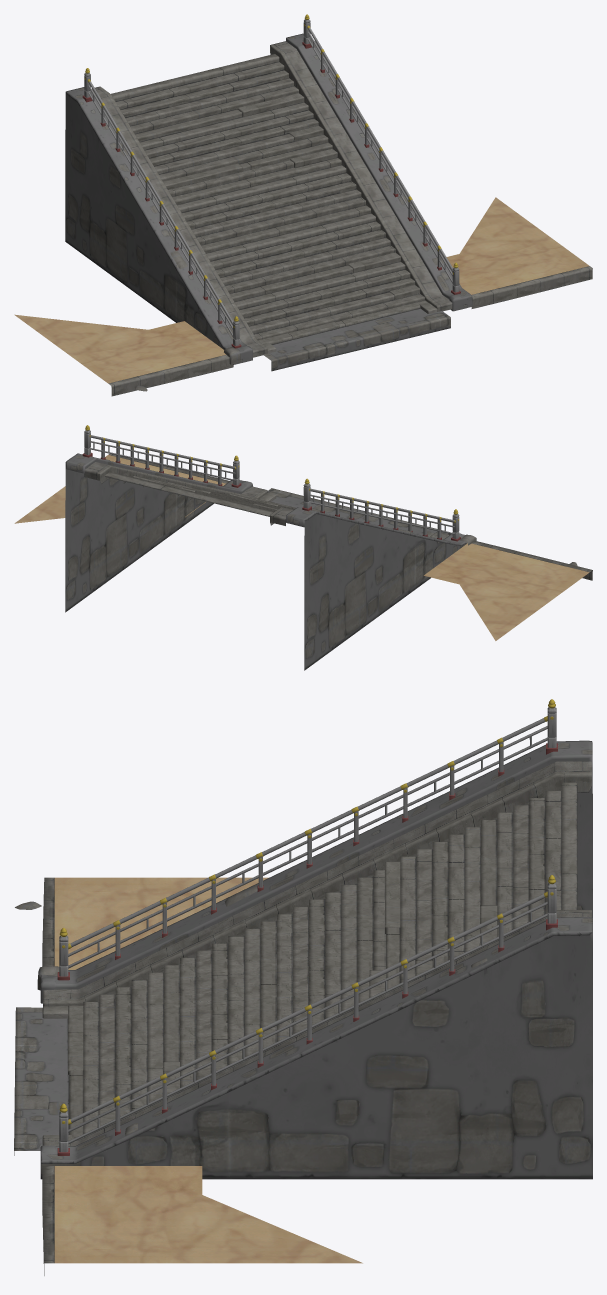
Rendered from SM_ENV_LKNVLD_Ground_StairCase_01.FBX.
3 views of the same model, one above another, from view 1: azimuth 30°, elevation 25°; view 2: azimuth 150°, elevation 25°; view 3: azimuth 270°, elevation 25° (orthographic). The views are drawn at different scales.
Parts seen in each view (by area): view 1: SM_ENV_LKNVLD_Ground_StairCase_01; view 2: SM_ENV_LKNVLD_Ground_StairCase_01; view 3: SM_ENV_LKNVLD_Ground_StairCase_01.
Part boxes in pixels (bbox=[...]): SM_ENV_LKNVLD_Ground_StairCase_01: bbox=[14, 14, 592, 396]; SM_ENV_LKNVLD_Ground_StairCase_01: bbox=[14, 425, 592, 670]; SM_ENV_LKNVLD_Ground_StairCase_01: bbox=[14, 699, 592, 1275].
Size of the model in its own units: 2264 by 848 by 1436.
